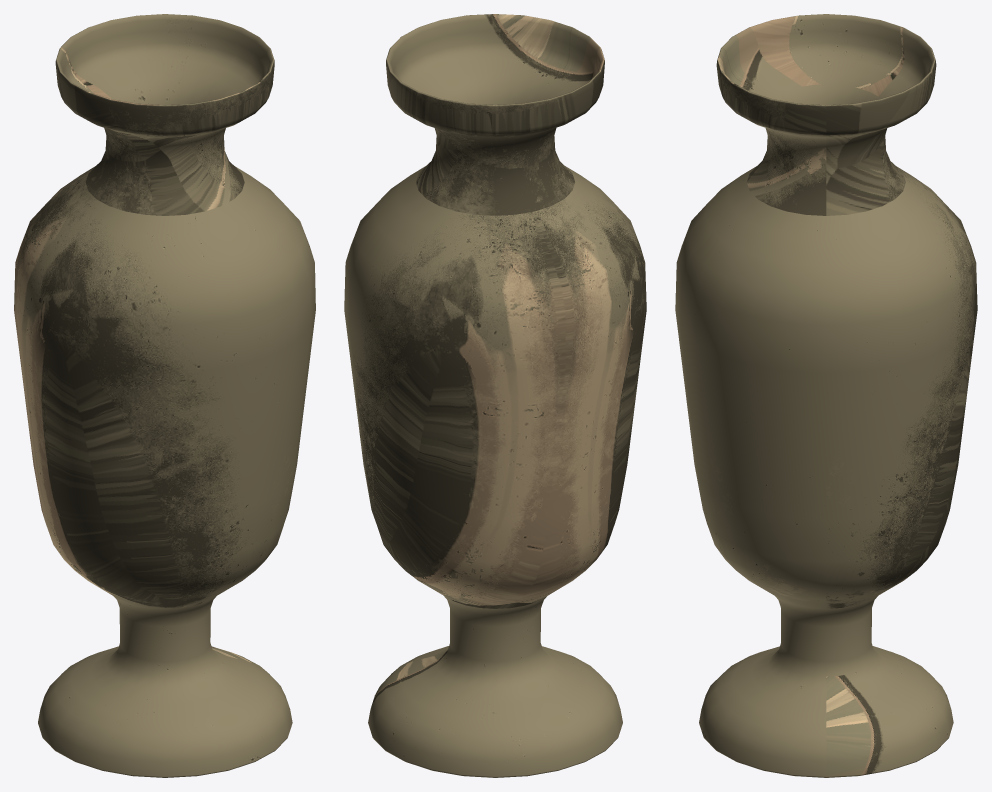
Rendered from brass_vase_textured.glb.
The picture shows the model from 3 angles, left to right: view 1: azimuth 30°, elevation 25°; view 2: azimuth 150°, elevation 25°; view 3: azimuth 270°, elevation 25°; orthographic projection.
Parts seen in each view (by area): view 1: brass_vase_03; view 2: brass_vase_03; view 3: brass_vase_03.
Part boxes in pixels (box(x1,y1,x2,y2)): brass_vase_03: box(14, 14, 315, 777); brass_vase_03: box(344, 14, 646, 777); brass_vase_03: box(675, 14, 977, 777).
Size of the model in its own units: 0.0825 by 0.2004 by 0.0825.
Materials: 1 (1 with a texture image).
